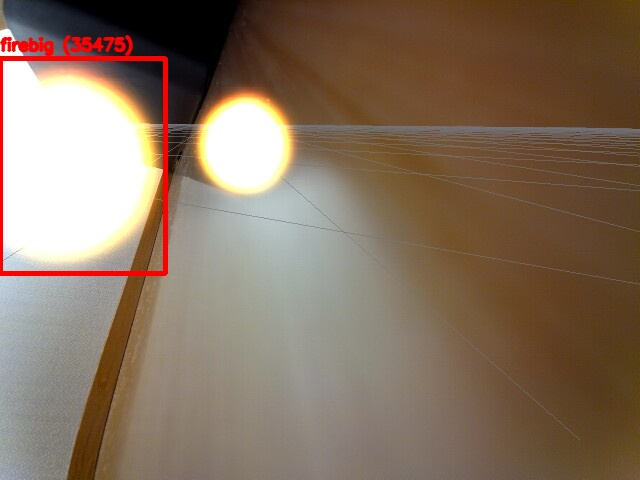firebig: (0, 58, 165, 273)
